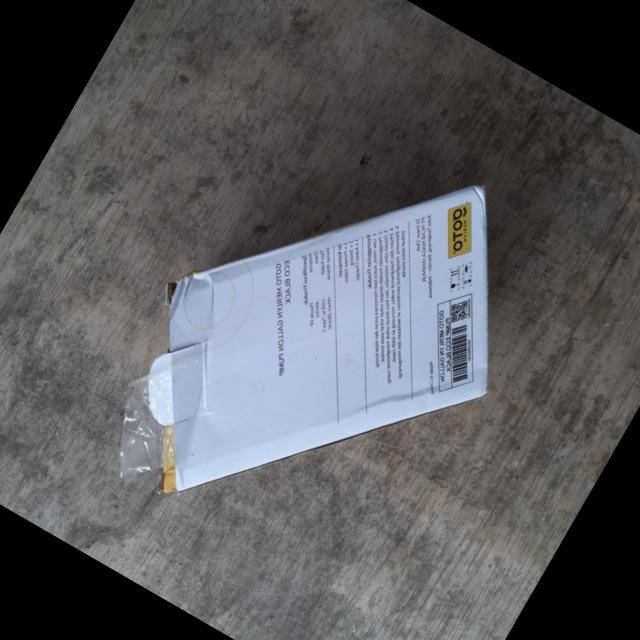Kardus: (72, 73, 576, 614)
